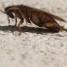cockroach: (3, 4, 65, 32)
